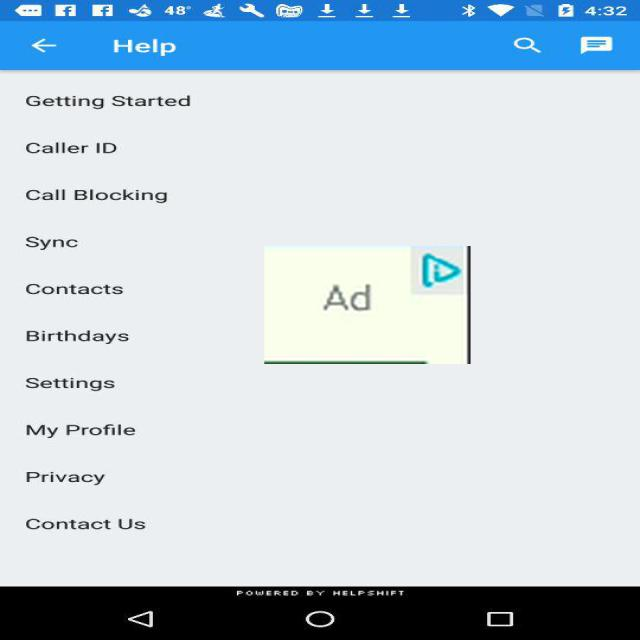sneaking: (264, 246, 470, 364)
